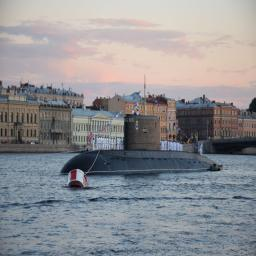submarine: (62, 111, 226, 174)
